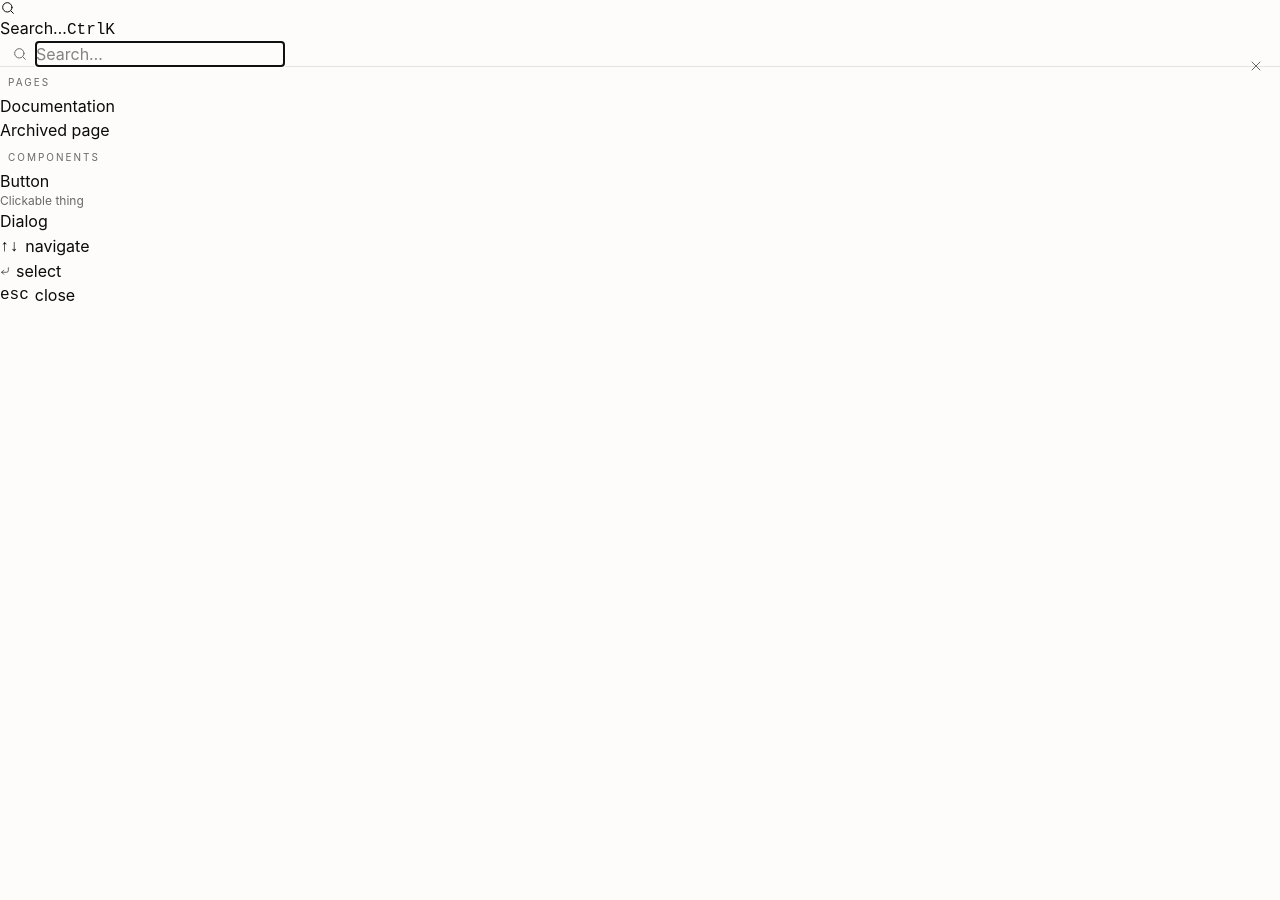
Scenario: SearchCommand › selects the highlighted item on Enter and closes
Type "dia" into the dropdown.
click(160, 54); type("dia")  # box [36,42,284,66]
Then press Enter
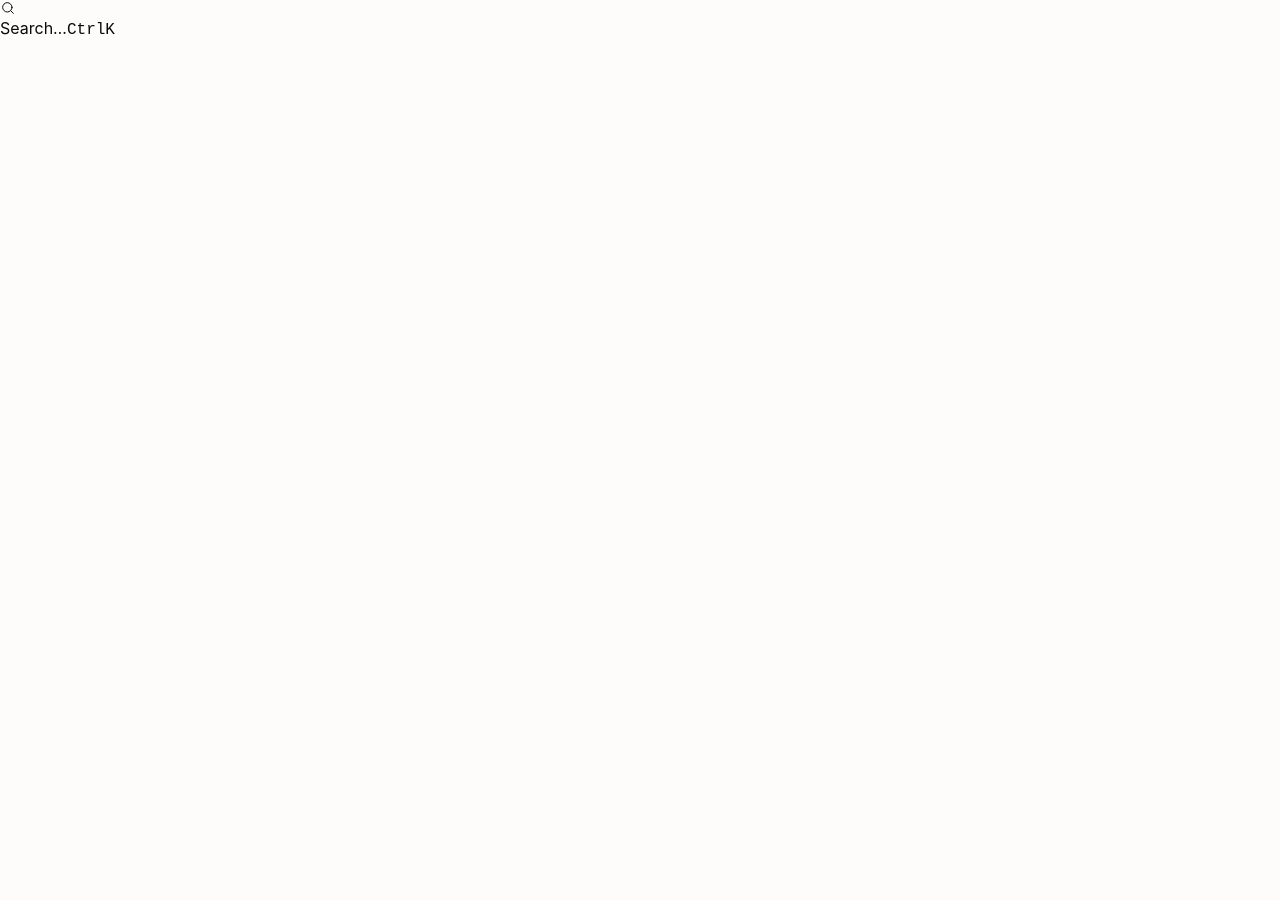
Expected: the dialog is gone
